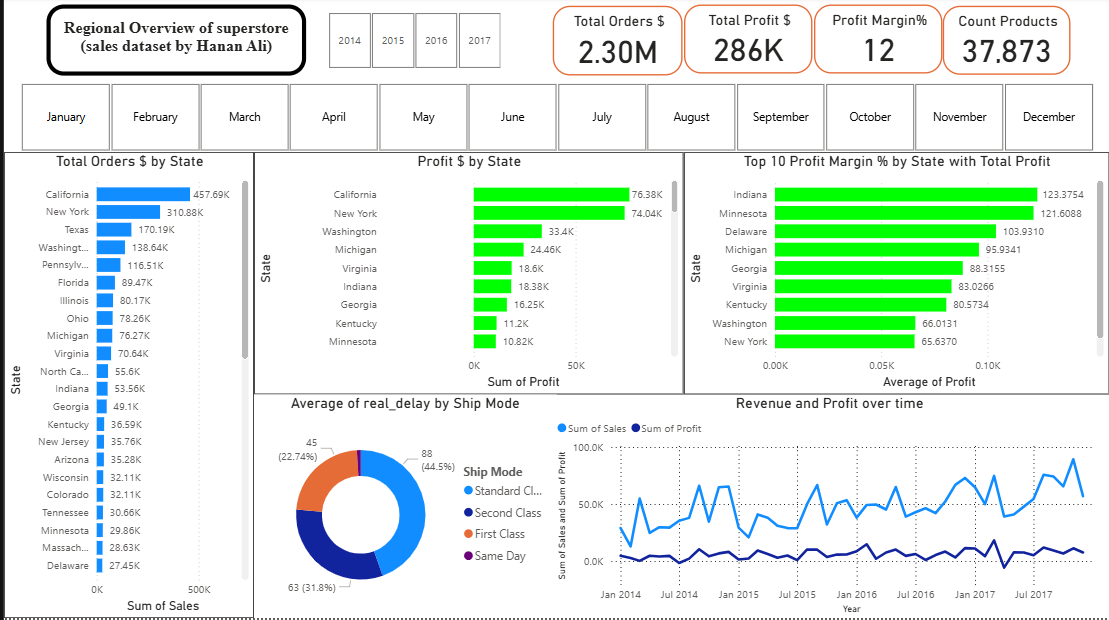

Layout of this report page (visuals, bound fields, positions):
{"tool":"powerbi","page":{"name":"Page 1","canvas":[1280,720],"ordinal":0},"visuals":[{"type":"card","title":"Total Profit $","fields":{"Values":["Sum(Worksheet.Profit)"]},"box":[787.9,8.7,149.2,79.7],"z":0},{"type":"slicer","fields":{"Values":["Worksheet.Order Date.Variation.Date Hierarchy.Year"]},"box":[20.3,11.6,579.3,76.8],"z":1000},{"type":"slicer","fields":{"Values":["Worksheet.Order Date.Variation.Date Hierarchy.Month"]},"box":[0,98.5,1280.3,81.1],"z":2000},{"type":"card","title":"Total Orders $","fields":{"Values":["Sum(Worksheet.Sales)"]},"box":[635.8,10.1,150.6,81.1],"z":3000},{"type":"lineChart","title":"Total Sales $ and Total Profit $by Year, Quarter and Month","fields":{"Category":["Worksheet.Order Date.Variation.Date Hierarchy.Year","Worksheet.Order Date.Variation.Date Hierarchy.Quarter","Worksheet.Order Date.Variation.Date Hierarchy.Month","Worksheet.Order Date.Variation.Date Hierarchy.Day"],"Y":["Sum(Worksheet.Sales)","Sum(Worksheet.Profit)"]},"box":[701,460.6,576.4,259.2],"z":4000},{"type":"barChart","title":"Total Orders $ by State ","fields":{"Category":["Worksheet.State"],"Y":["Sum(Worksheet.Sales)"]},"box":[0,179.6,289.7,281],"z":5000},{"type":"barChart","title":"Profit $ by State","fields":{"Category":["Worksheet.State"],"Y":["Sum(Worksheet.Profit)"]},"box":[289.8,179.1,299.8,281.1],"z":6000},{"type":"card","title":"Count Products","fields":{"Values":["Sum(Worksheet.Quantity)"]},"box":[1087.3,10.1,148.1,79.7],"z":8000},{"type":"clusteredColumnChart","title":"Sales $ by Segment","fields":{"Y":["Sum(Worksheet.Sales)"],"Category":["Worksheet.Segment"]},"box":[886.9,180.4,393.1,281.1],"z":9000},{"type":"barChart","title":"Top 10 Profit Margin % by State with Total Profit","fields":{"Category":["Worksheet.State"],"Y":["Avg(Worksheet.Profit Margin)"]},"box":[589.6,179.1,297.3,281.1],"z":10000},{"type":"donutChart","title":"Total Sales $ by Product Category","fields":{"Y":["Sum(Worksheet.Sales)"],"Category":["Worksheet.Sub-Category"]},"box":[0,460.3,350.8,260],"z":11000},{"type":"card","title":"Profit Margin%","fields":{"Values":["Avg(Worksheet.Profit Margin)"]},"box":[938.5,8.7,149.2,79.7],"z":12000},{"type":"donutChart","fields":{"Category":["Worksheet.Ship Mode"],"Y":["Avg(Worksheet.real_delay)"]},"box":[350.8,460.3,350.8,260],"z":12001}]}

Visuals, with their boxes in screenshot pixels (x1, y1, x2, y2), scaled from the page's 1280x720 canvas onto the 1109x620 screenshot:
"Total Profit $" card: 683:7:812:76
slicer - Worksheet.Order Date.Variation.Date Hierarchy.Year: 18:10:519:76
slicer - Worksheet.Order Date.Variation.Date Hierarchy.Month: 0:85:1108:155
"Total Orders $" card: 551:9:681:79
"Total Sales $ and Total Profit $by Year, Quarter and Month" lineChart: 607:397:1107:619
"Total Orders $ by State " barChart: 0:155:251:397
"Profit $ by State" barChart: 251:154:511:396
"Count Products" card: 942:9:1070:77
"Sales $ by Segment" clusteredColumnChart: 768:155:1108:397
"Top 10 Profit Margin % by State with Total Profit" barChart: 511:154:768:396
"Total Sales $ by Product Category" donutChart: 0:396:304:619
"Profit Margin%" card: 813:7:942:76
donutChart - Worksheet.Ship Mode x Avg(Worksheet.real_delay): 304:396:608:619
